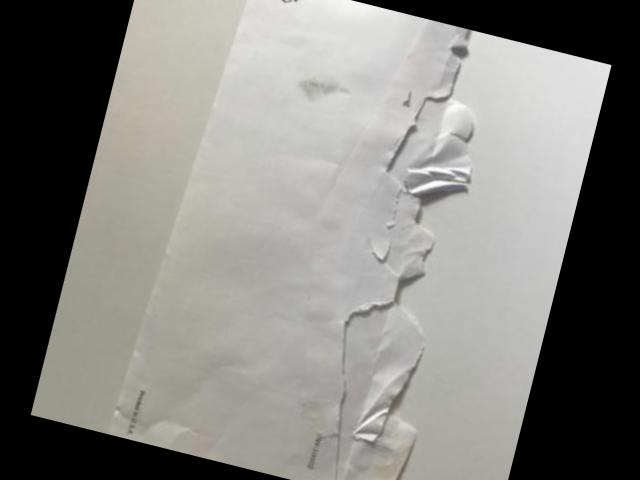cardboard paper: (110, 0, 475, 480)
